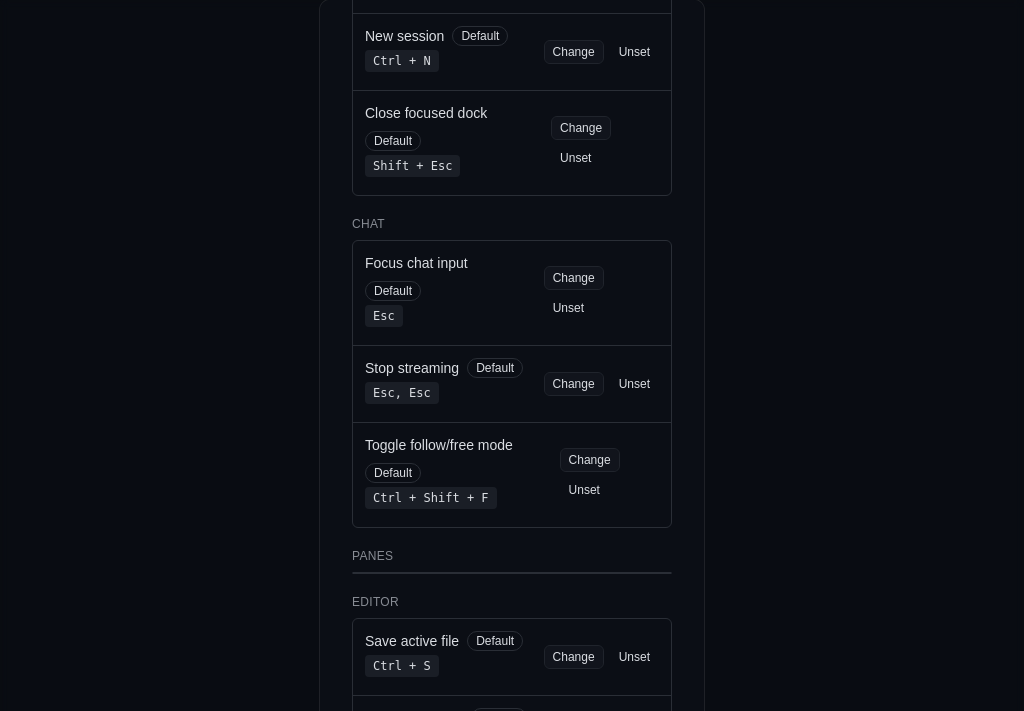
KeybindsPanel › records double Escape without dismissing the settings dialog
The image size is (1024, 711).
(page scrolled)
Click the button with aria-label "Change Stop streaming": (574, 384) [544, 372, 604, 396]
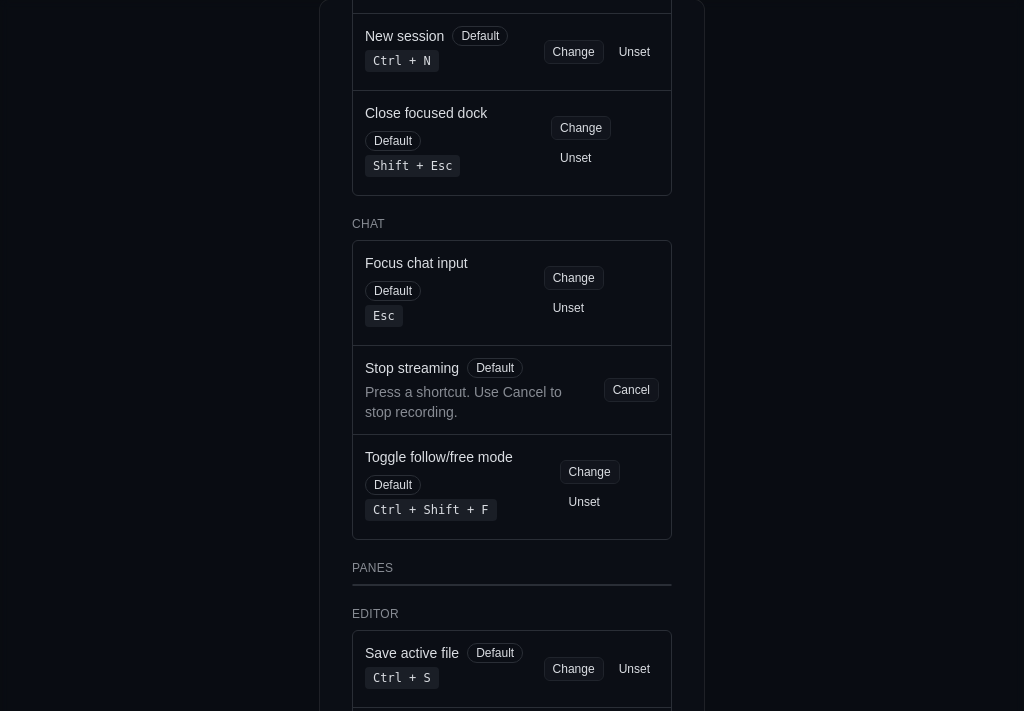
Press Escape
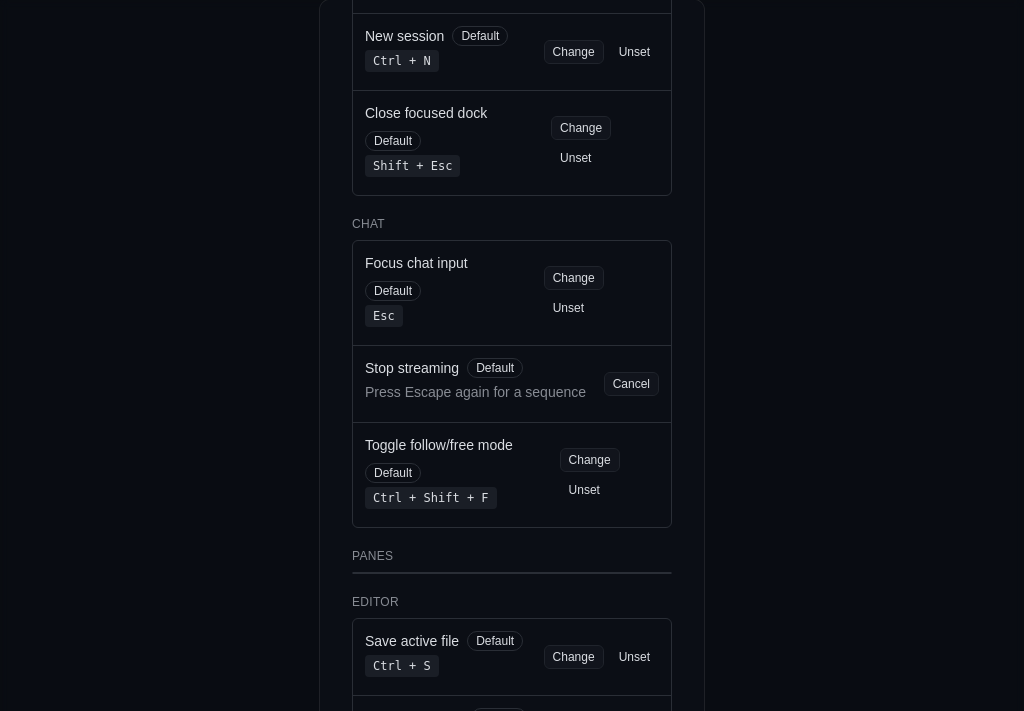
Press Escape
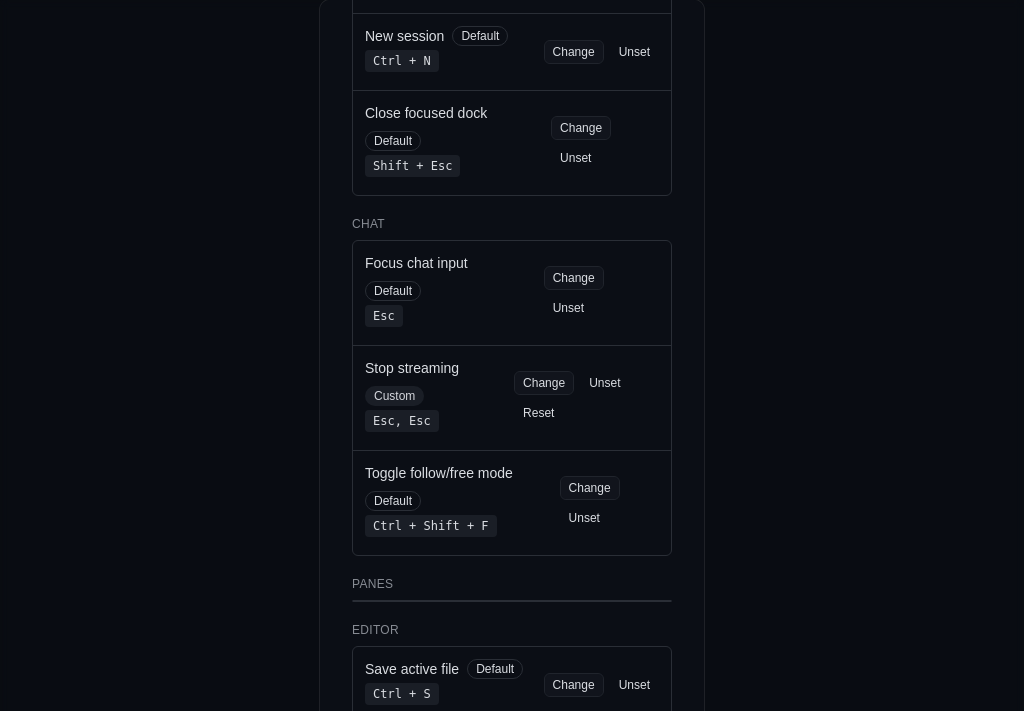
Now the text "Esc, Esc" is shown, box [365, 410, 439, 432]
